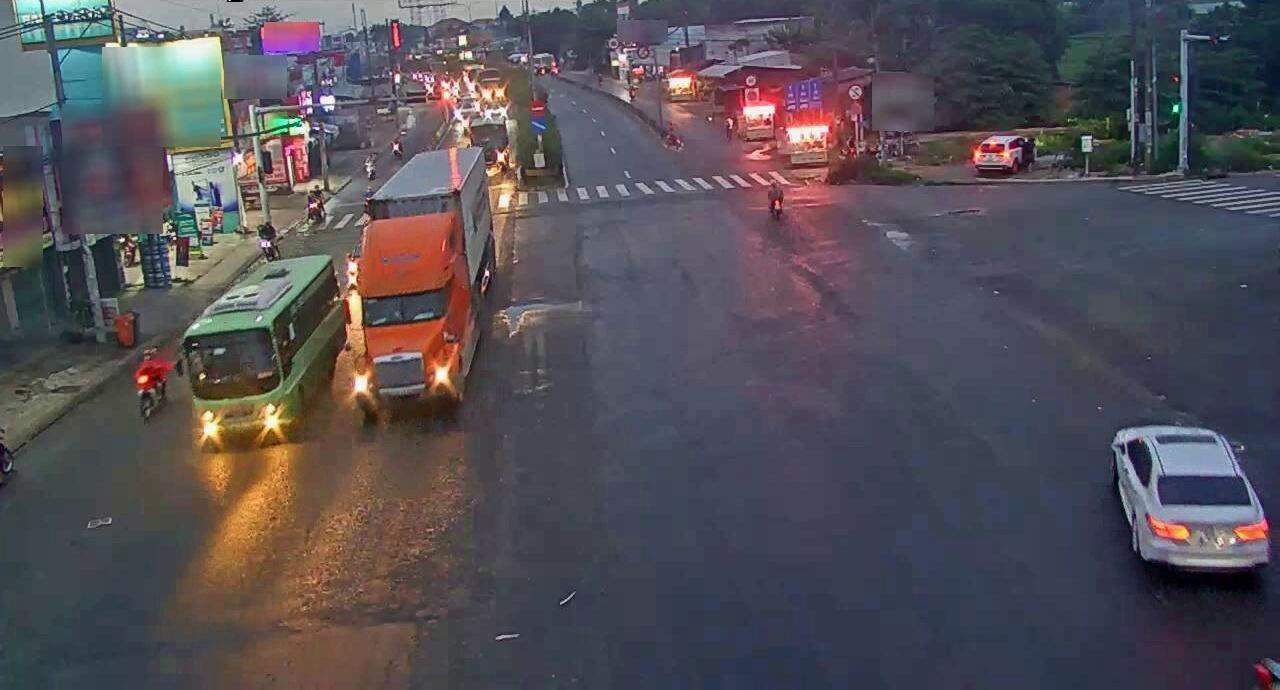xe buyt: (189, 249, 344, 437)
xe container: (356, 151, 485, 401)
xe hoi: (1103, 414, 1265, 586)
xe may: (762, 172, 790, 232)
